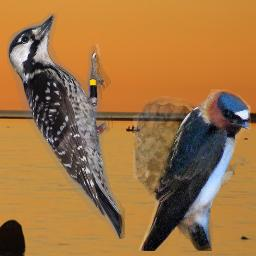Swallow: (133, 89, 251, 251)
Woodpecker: (7, 13, 125, 239)
